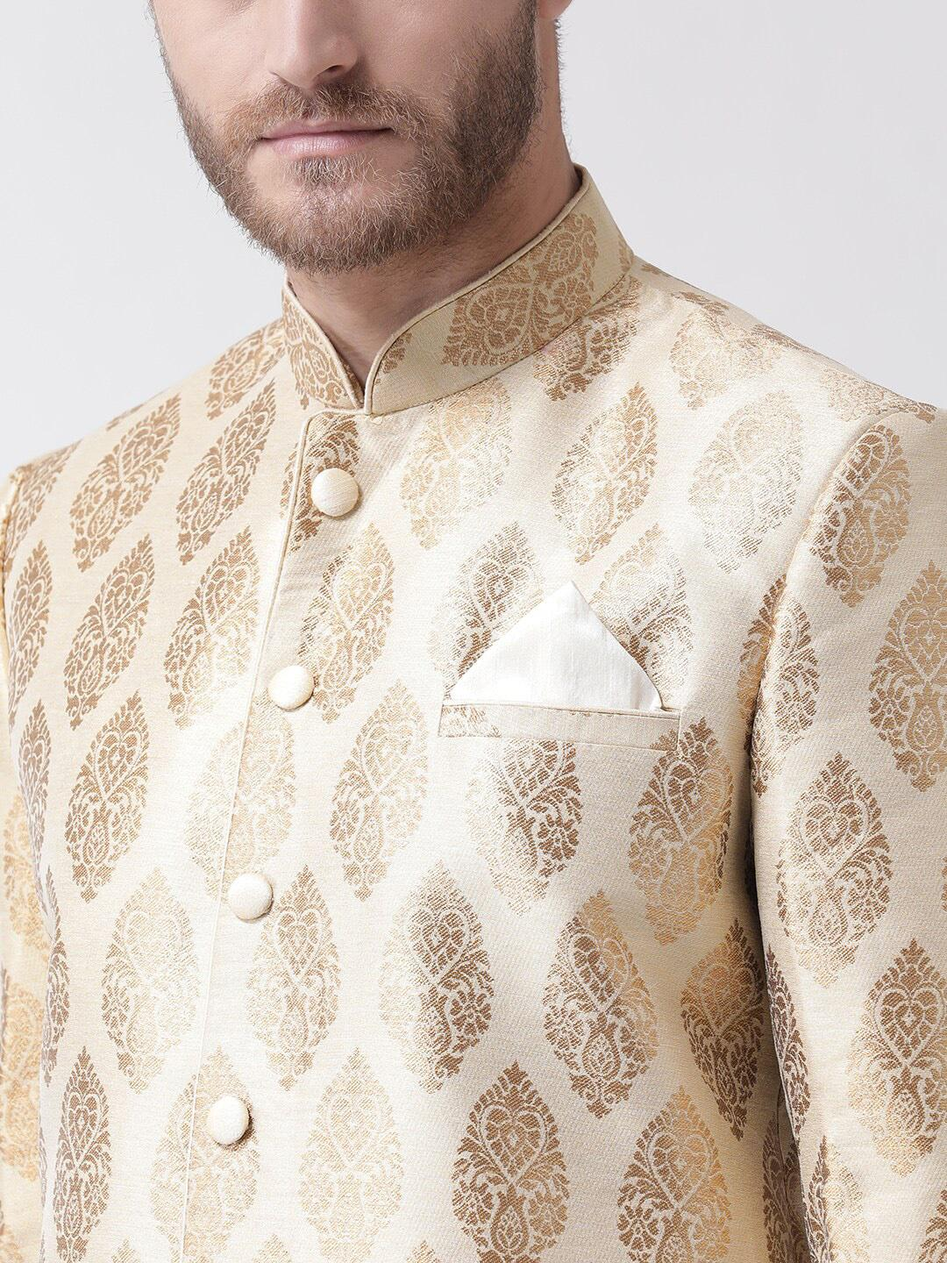Design Sherwani: (1, 168, 946, 1262)
